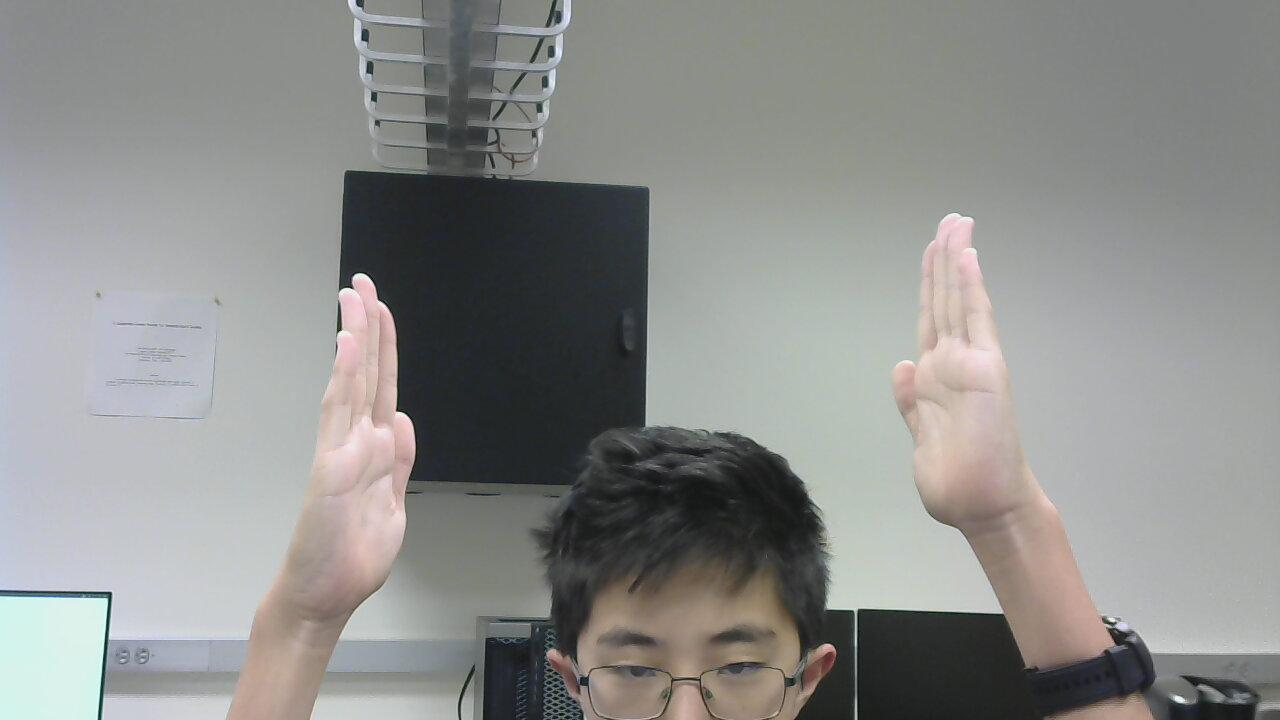hands: (879, 202, 1060, 535), (274, 271, 436, 624)
